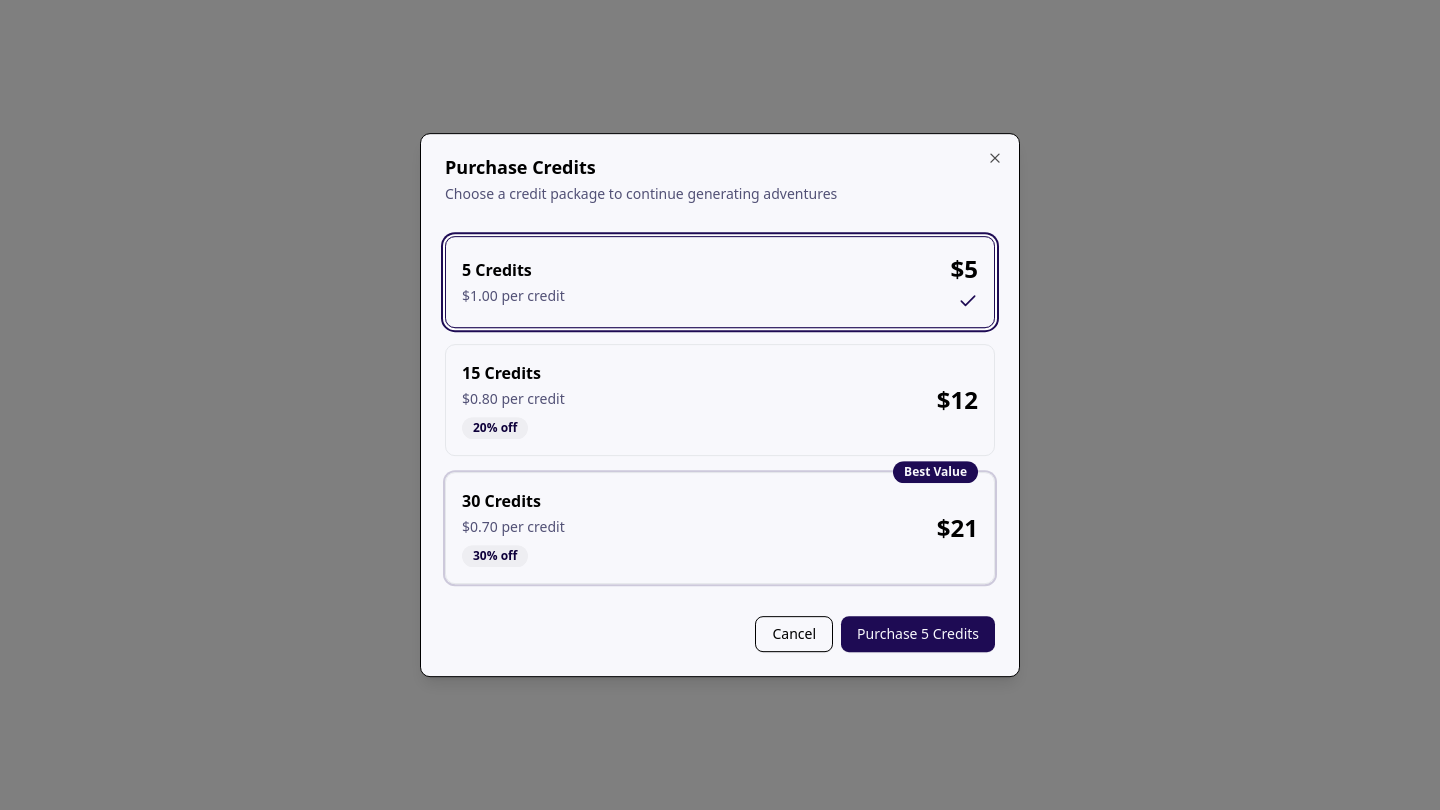
Test: CreditPurchaseDialog › should handle purchase errors
The image size is (1440, 810).
Click the button "Purchase 5 Credits" at {"x": 918, "y": 634}, box [841, 616, 995, 652]
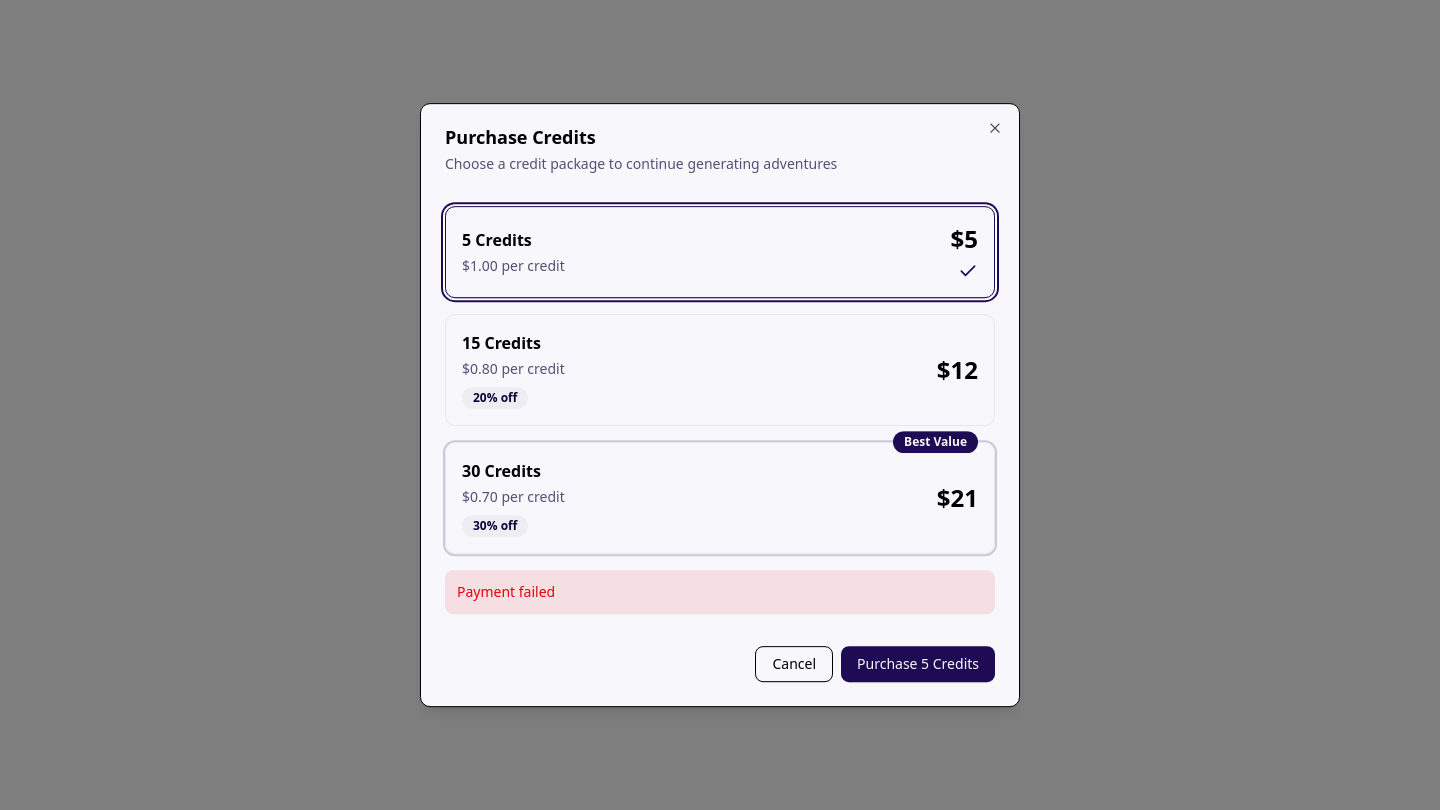
Check: the text "Payment failed" is shown, box [445, 570, 995, 614]
